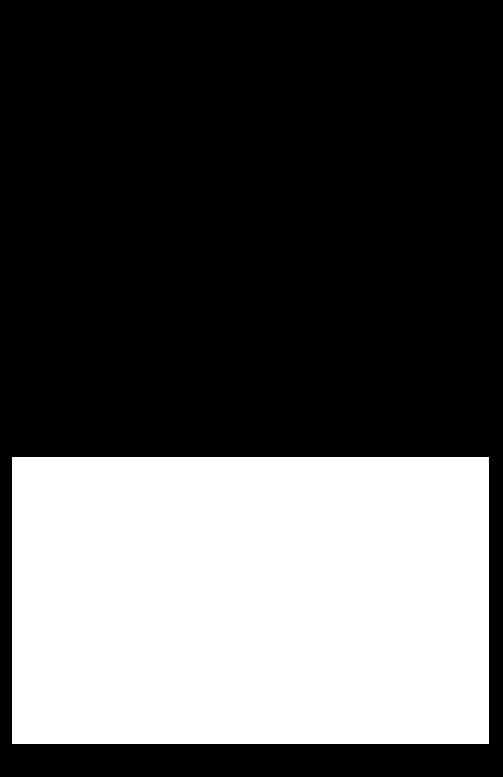table: (12, 457, 488, 743)
